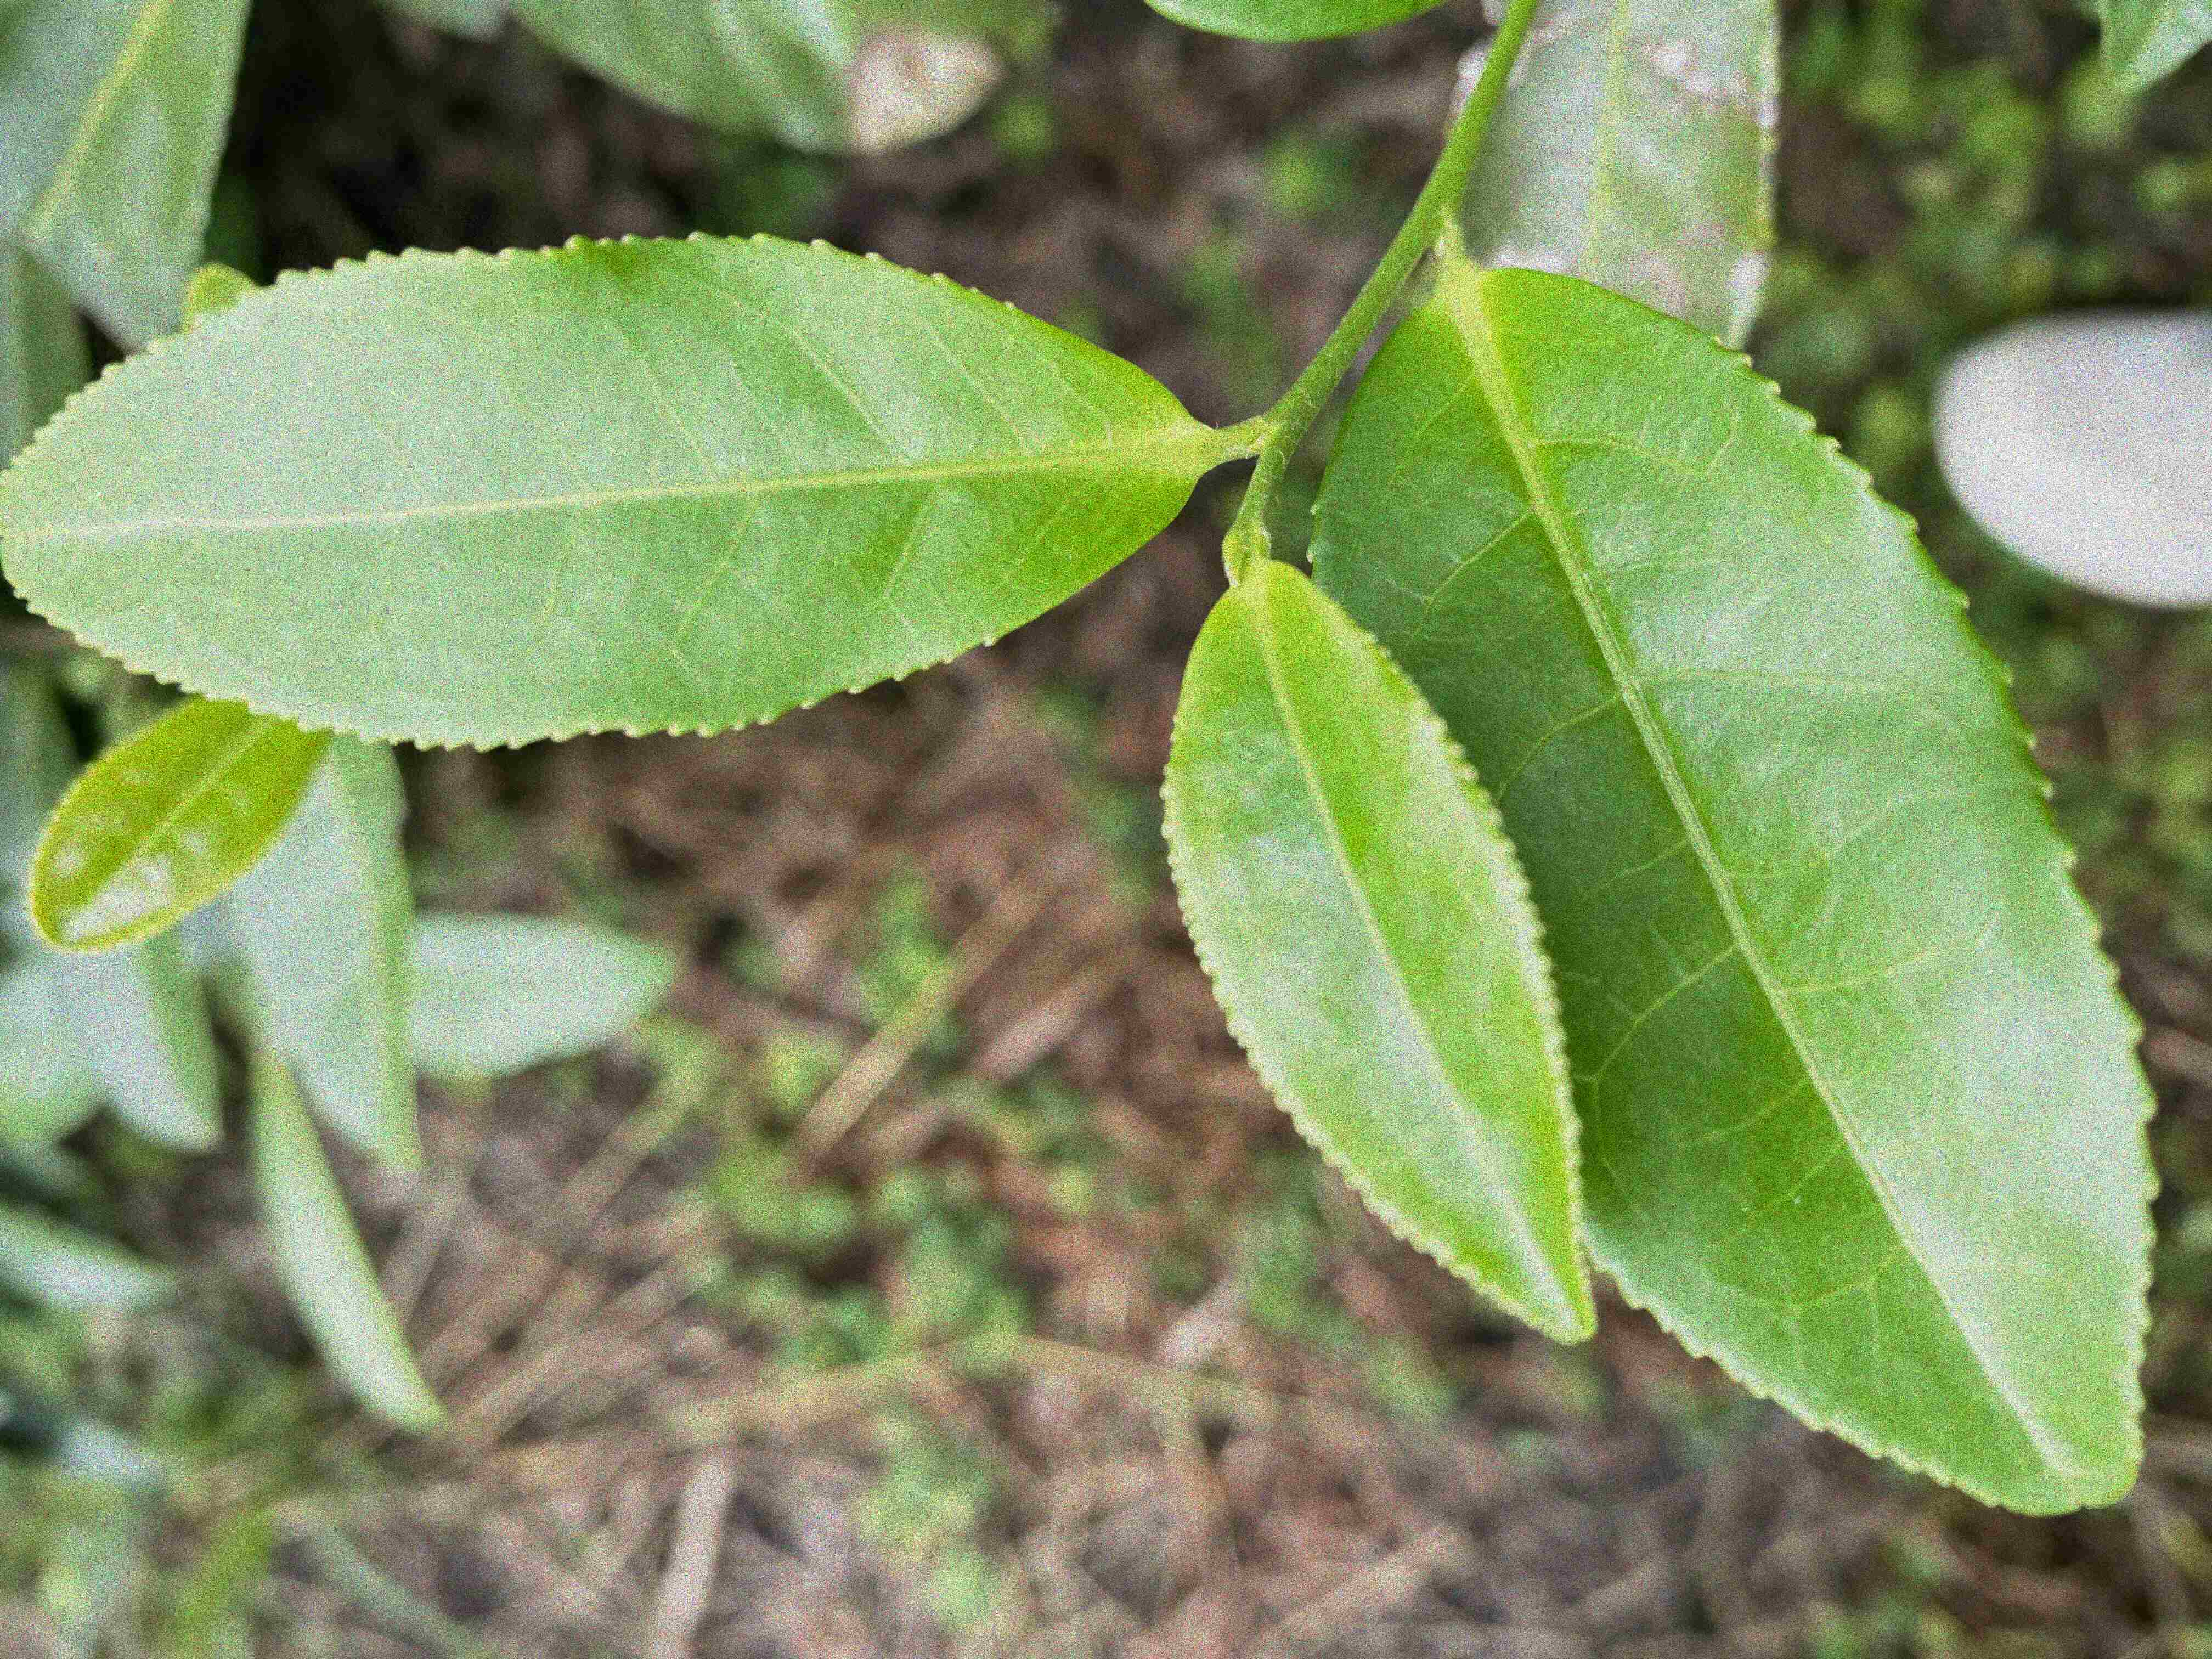healthy: (1301, 267, 2163, 1521), (0, 232, 1197, 756), (1158, 559, 1592, 1347), (26, 697, 333, 957)
